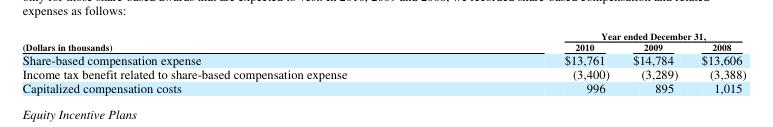table: (21, 28, 745, 95)
table column: (21, 28, 455, 95), (455, 28, 620, 95), (620, 28, 689, 95), (689, 28, 745, 95)
table column header: (21, 28, 745, 52)
table row: (21, 80, 745, 95), (21, 52, 745, 66), (21, 66, 745, 80), (21, 28, 745, 41), (21, 41, 745, 52)
table spanning cell: (21, 28, 455, 52), (455, 28, 745, 41)
